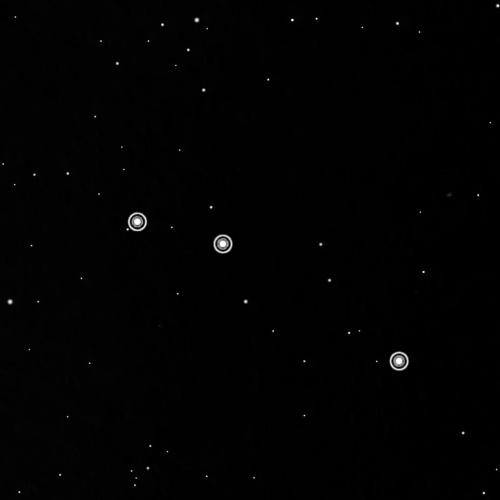vulpecula: (122, 209, 415, 375)
